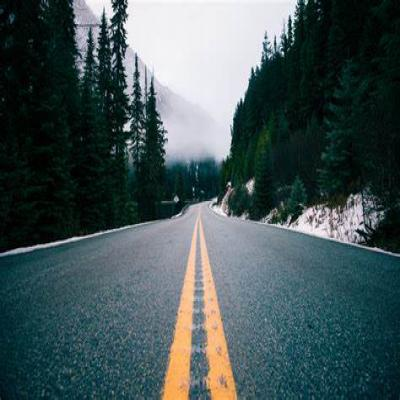iced-road: (0, 203, 400, 400)
